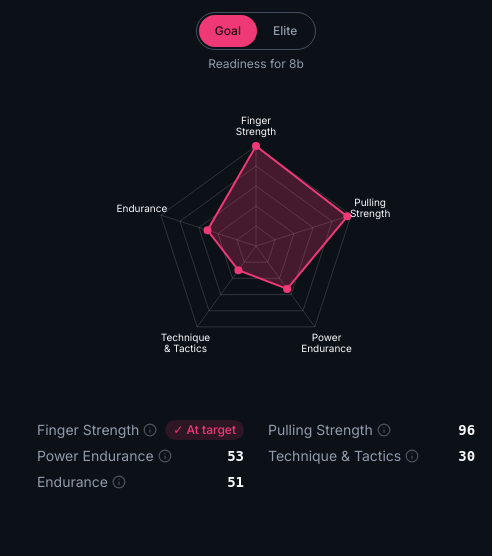
Scenario: tooltips › swaps to the elite framing without mentioning the goal grade
Click the button "Elite" at (285, 31), box [257, 15, 313, 47]
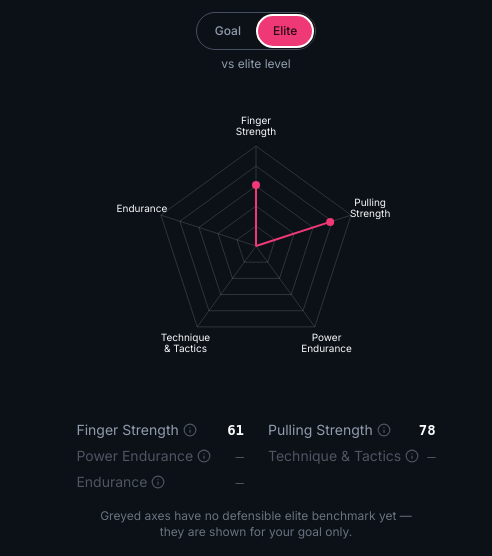
Click the button named "Info about Finger Strength" at (190, 430), box [183, 423, 197, 437]
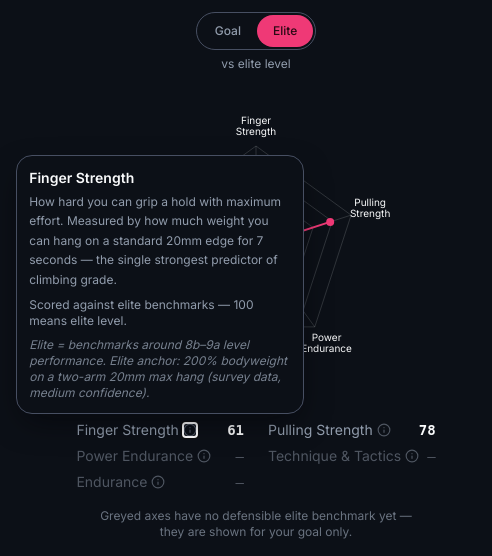
Expected: the tooltip shows "100 means elite level", [29, 297, 254, 328]
Expected: the tooltip shows "8b–9a level performance", [29, 337, 287, 400]
